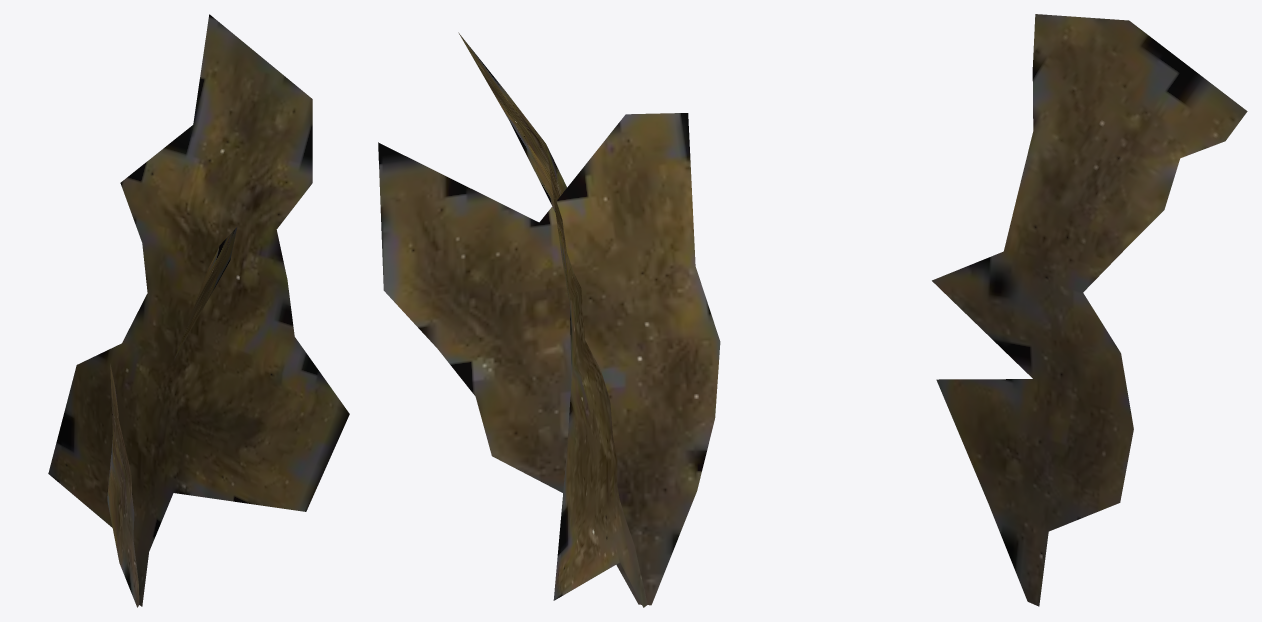
The model's file is MTS_Seaweed_D1-transformed.glb.
3 renders of one model, left to right at view 1: azimuth 30°, elevation 25°; view 2: azimuth 150°, elevation 25°; view 3: azimuth 270°, elevation 25°, orthographic. The views are drawn at different scales.
Visible parts, largest first — view 1: MTS_Seaweed_D1; view 2: MTS_Seaweed_D1; view 3: MTS_Seaweed_D1.
Part boxes in pixels (x1,y1,x2,y2): MTS_Seaweed_D1: (48,14,349,607); MTS_Seaweed_D1: (378,32,720,607); MTS_Seaweed_D1: (932,14,1247,606).
Bounding box in the file's own units: 0.6198 × 1.25 × 0.7967.
1 material, 1 textured.
